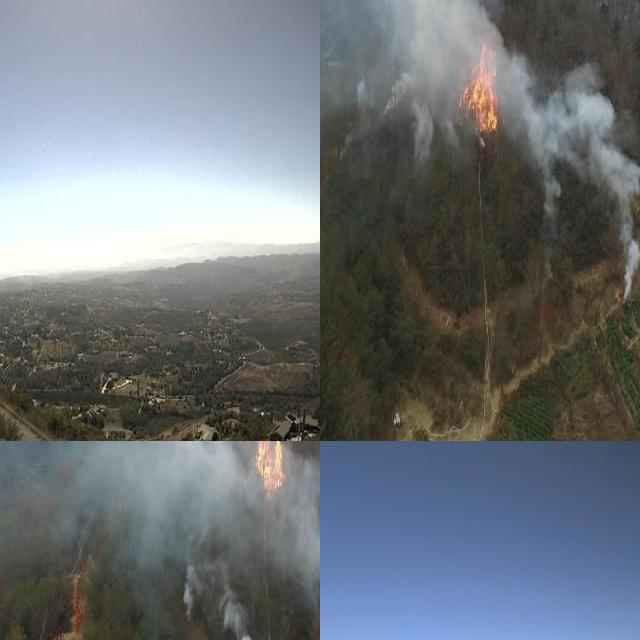fire: (405, 0, 534, 163), (227, 441, 311, 518)
smoke: (320, 0, 640, 236), (0, 441, 320, 640)
